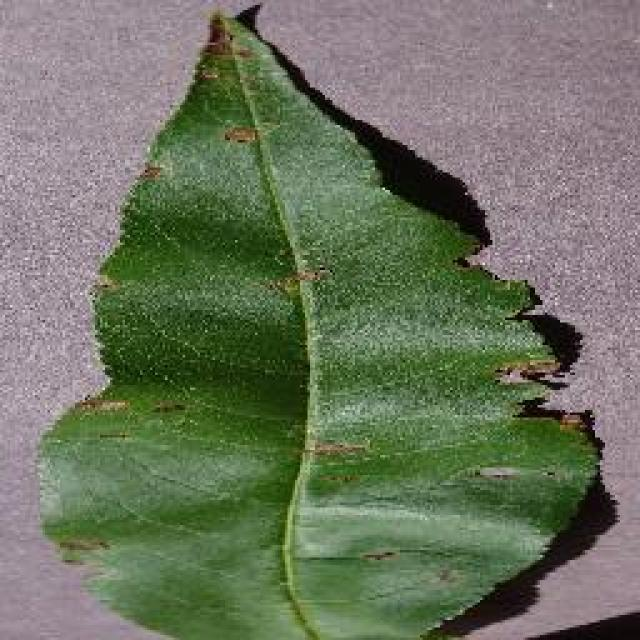Peach_Bacterial_Spot: (148, 90, 475, 462)
